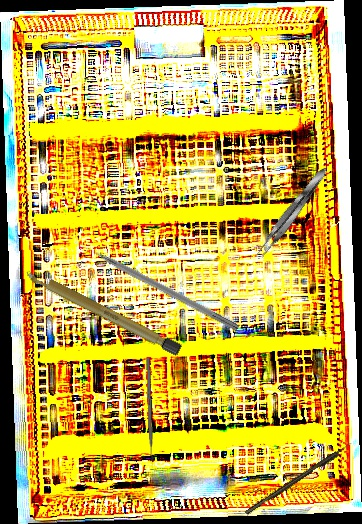Hook Surgical: (244, 441, 354, 516)
Pusher: (73, 236, 241, 332), (146, 357, 154, 469)
Scalpel Handle: (23, 266, 183, 357)
Tissue Forceps: (253, 163, 332, 262)
